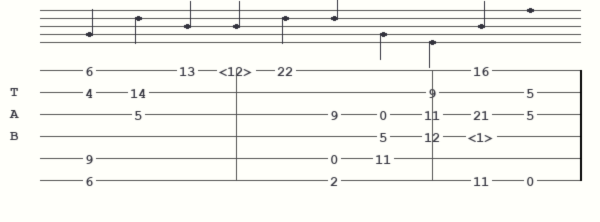0: (330, 152, 342, 165), (379, 108, 391, 121), (526, 174, 538, 187)
11: (375, 152, 395, 165), (424, 108, 444, 121), (473, 174, 493, 187)
12: (424, 130, 444, 143)
13: (179, 64, 199, 77)
14: (130, 86, 150, 99)
16: (473, 64, 493, 77)
2: (330, 174, 342, 187)
21: (473, 108, 493, 121)
22: (277, 64, 297, 77)
4: (85, 86, 97, 99)
5: (134, 108, 146, 121), (379, 130, 391, 143), (526, 86, 538, 99), (526, 108, 538, 121)
6: (85, 64, 97, 77), (85, 174, 97, 187)
9: (85, 152, 97, 165), (330, 108, 342, 121), (428, 86, 440, 99)
harmonic: (219, 64, 257, 77), (468, 130, 498, 143)
